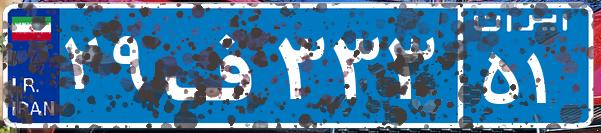1: (525, 38, 570, 115)
2: (57, 26, 110, 107)
3: (385, 28, 445, 110), (273, 28, 330, 110), (330, 28, 385, 110)
5: (475, 38, 525, 113)
9: (110, 28, 158, 105)
ف: (158, 15, 273, 115)
